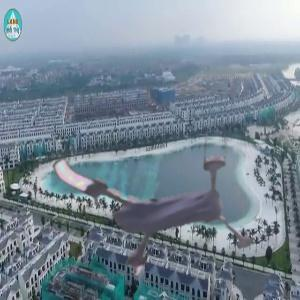drone: (72, 108, 257, 293)
